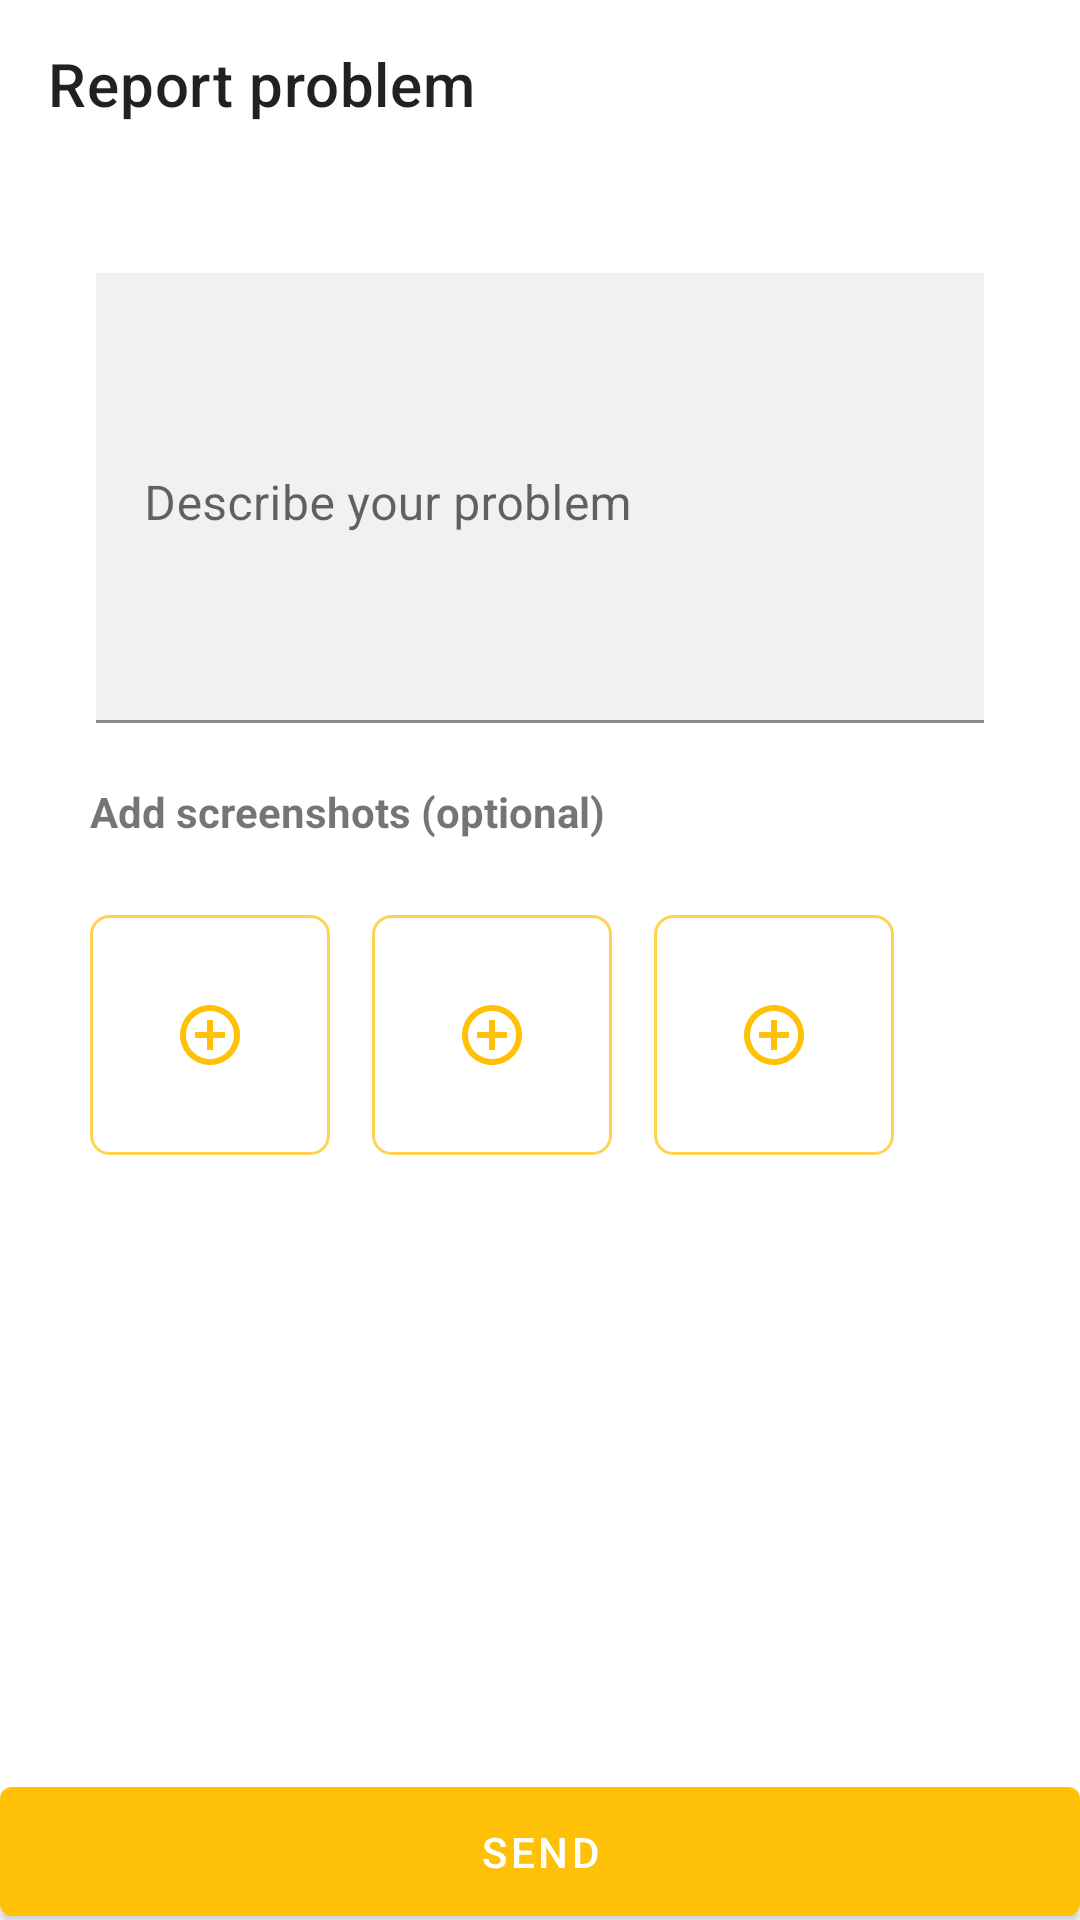

Screen size 1080×1920. Icon name, then its box in pixels as (x1, y1, x2, y2):
add circle: (90, 915, 330, 1155), (372, 915, 612, 1155), (654, 915, 894, 1155)
